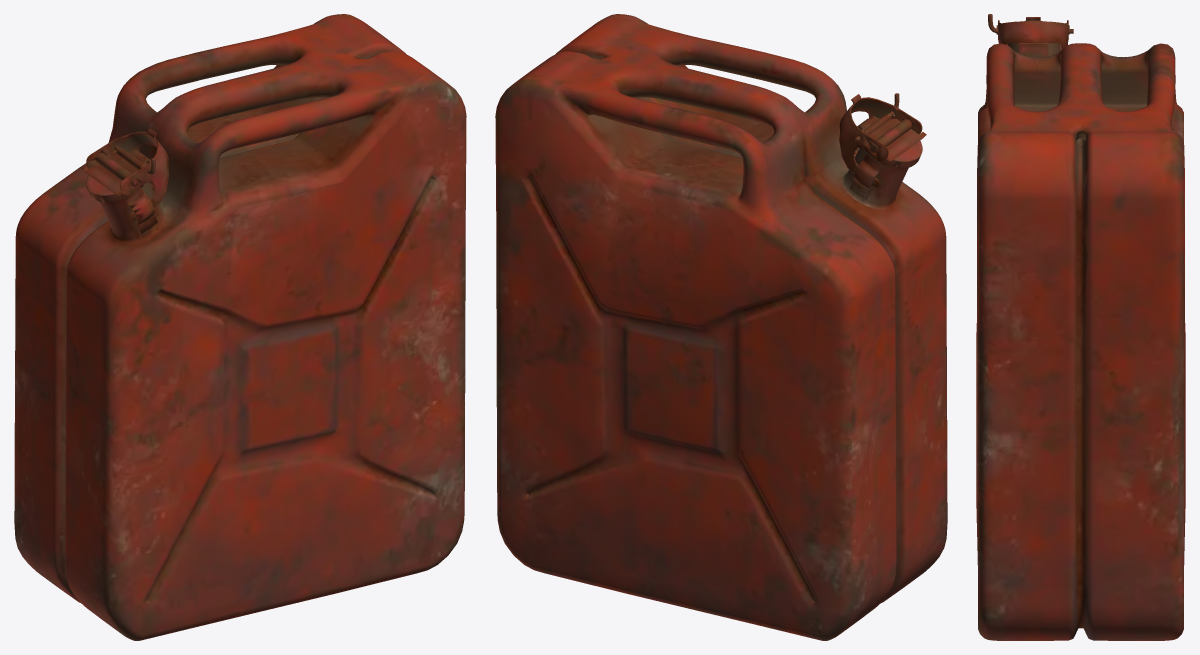
The model's file is metal_jerrycan.glb.
3 views of the same model, side by side, from view 1: azimuth 30°, elevation 25°; view 2: azimuth 150°, elevation 25°; view 3: azimuth 270°, elevation 25° (orthographic). The views are drawn at different scales.
Parts seen in each view (by area): view 1: metal_jerrycan; view 2: metal_jerrycan; view 3: metal_jerrycan.
Boxes of the visible parts, box(x1,y1,x2,y2) form: metal_jerrycan: box(14, 14, 466, 640); metal_jerrycan: box(495, 14, 947, 640); metal_jerrycan: box(976, 14, 1185, 640).
Bounding box in the file's own units: 0.3503 × 0.4552 × 0.1718.
Materials: 1 (1 with a texture image).
